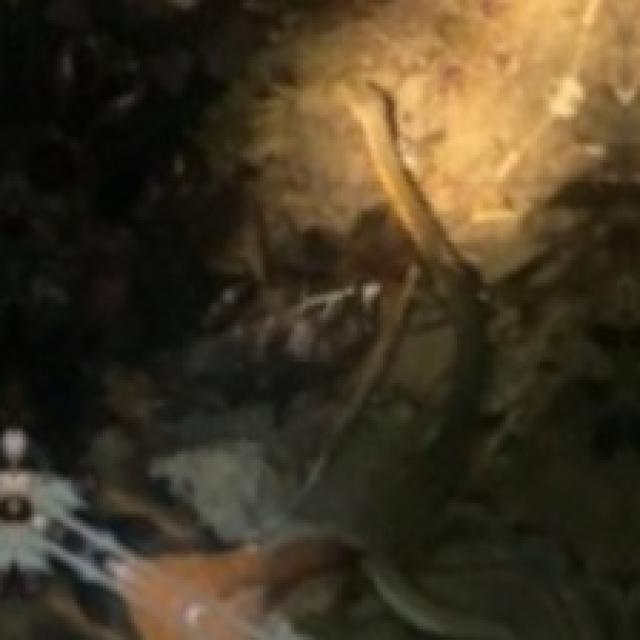king cobra: (343, 82, 490, 496), (362, 556, 512, 640)
